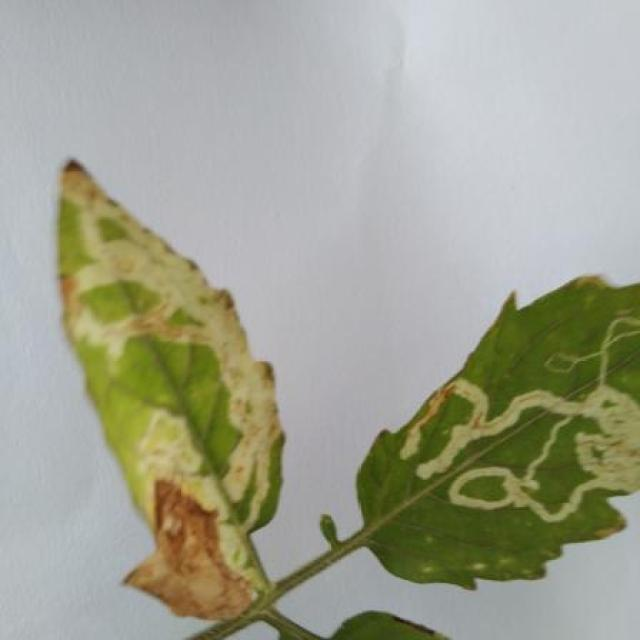Leaf Miner: (54, 152, 289, 625), (354, 275, 640, 591)
